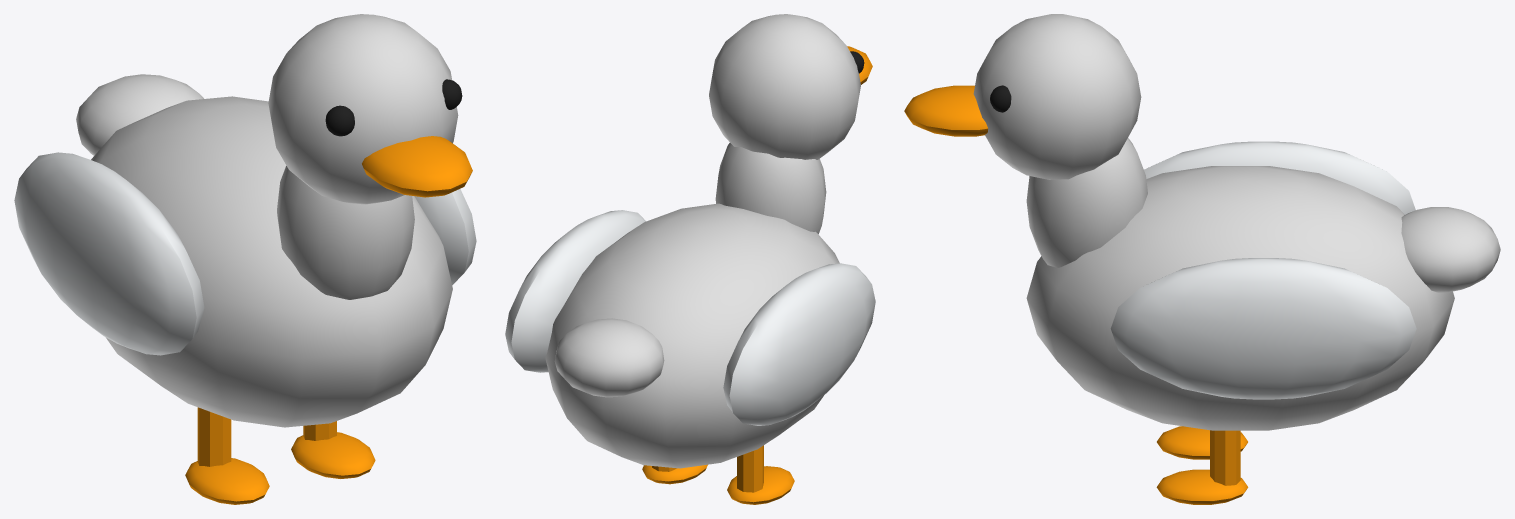
File: foot_duck.glb
The picture shows the model from 3 angles, left to right: view 1: azimuth 30°, elevation 25°; view 2: azimuth 150°, elevation 25°; view 3: azimuth 270°, elevation 25°; orthographic projection. The views are drawn at different scales.
Parts seen in each view (by area): view 1: Body, Leg_R, Leg_L; view 2: Body, Leg_R, Leg_L; view 3: Body, Leg_L, Leg_R.
Part boxes in pixels (left/top/right/bottom): Body: left=14, top=14, right=476, bottom=427; Leg_R: left=185, top=407, right=269, bottom=504; Leg_L: left=291, top=421, right=375, bottom=478; Body: left=505, top=14, right=875, bottom=468; Leg_R: left=727, top=445, right=794, bottom=504; Leg_L: left=642, top=464, right=707, bottom=484; Body: left=904, top=14, right=1500, bottom=430; Leg_L: left=1156, top=430, right=1248, bottom=504; Leg_R: left=1157, top=426, right=1247, bottom=459.
Size of the model in its own units: 0.4575 by 0.656 by 0.78.
